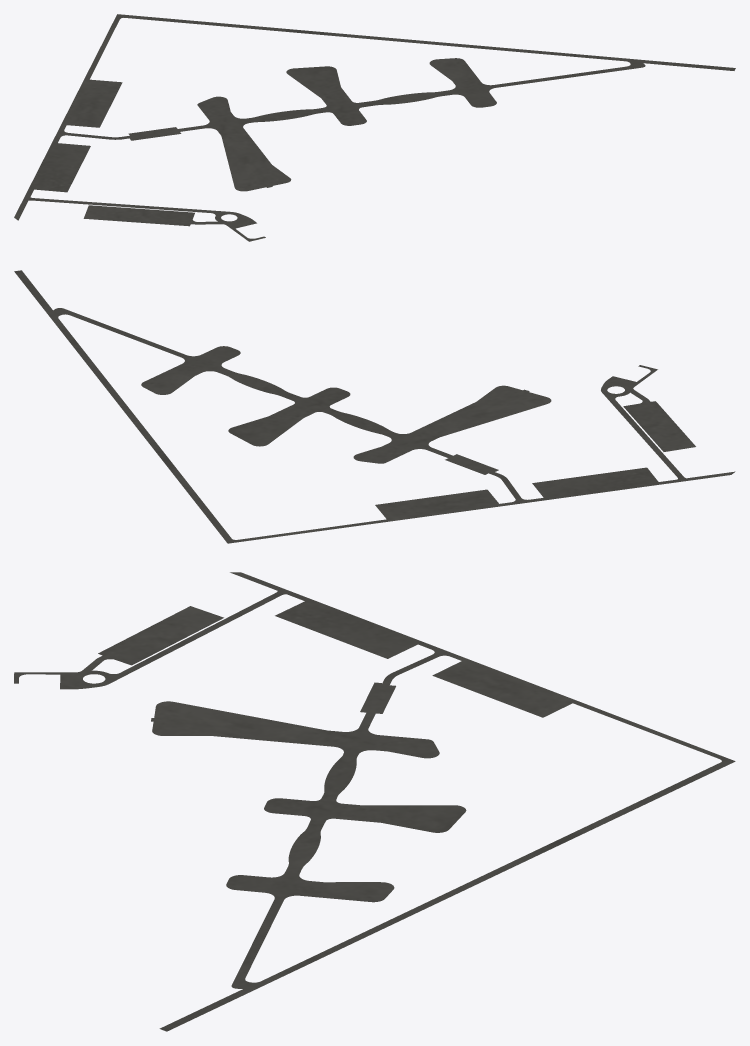
The model's file is road.obj.
The picture shows the model from 3 angles, top to bottom: view 1: azimuth 30°, elevation 25°; view 2: azimuth 150°, elevation 25°; view 3: azimuth 270°, elevation 25°; orthographic projection. The views are drawn at different scales.
Visible parts, largest first — view 1: Road; view 2: Road; view 3: Road.
Part boxes in pixels (x1,y1,x2,y2): Road: (14,14,735,241); Road: (14,270,735,543); Road: (14,572,735,1031).
Size of the model in its own units: 39818 by 0 by 26442.
